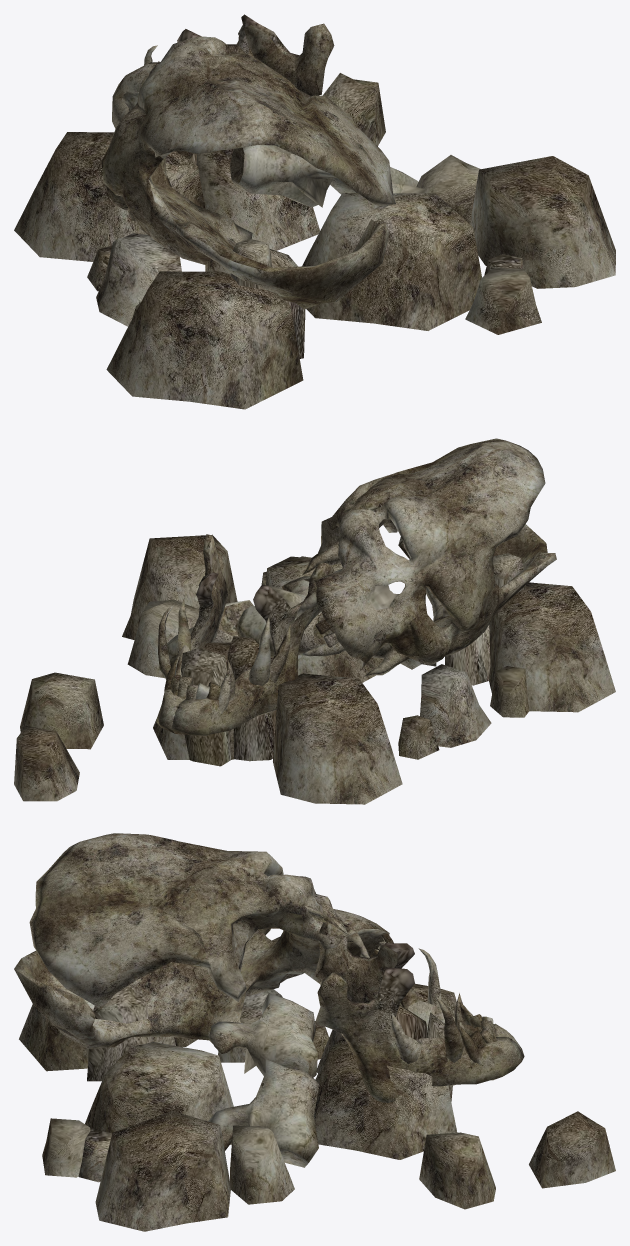
The model's file is skullbones.dae.
3 views of the same model, one above another, from view 1: azimuth 30°, elevation 25°; view 2: azimuth 150°, elevation 25°; view 3: azimuth 270°, elevation 25° (orthographic). The views are drawn at different scales.
Parts seen in each view (by area): view 1: skullbones; view 2: skullbones; view 3: skullbones.
Part boxes in pixels (box(x1,y1,x2,y2)): skullbones: box(14, 14, 615, 409); skullbones: box(14, 438, 615, 804); skullbones: box(14, 833, 615, 1231).
Size of the model in its own units: 2.28 by 2.59 by 1.1.
Materials: 1 (1 with a texture image).
